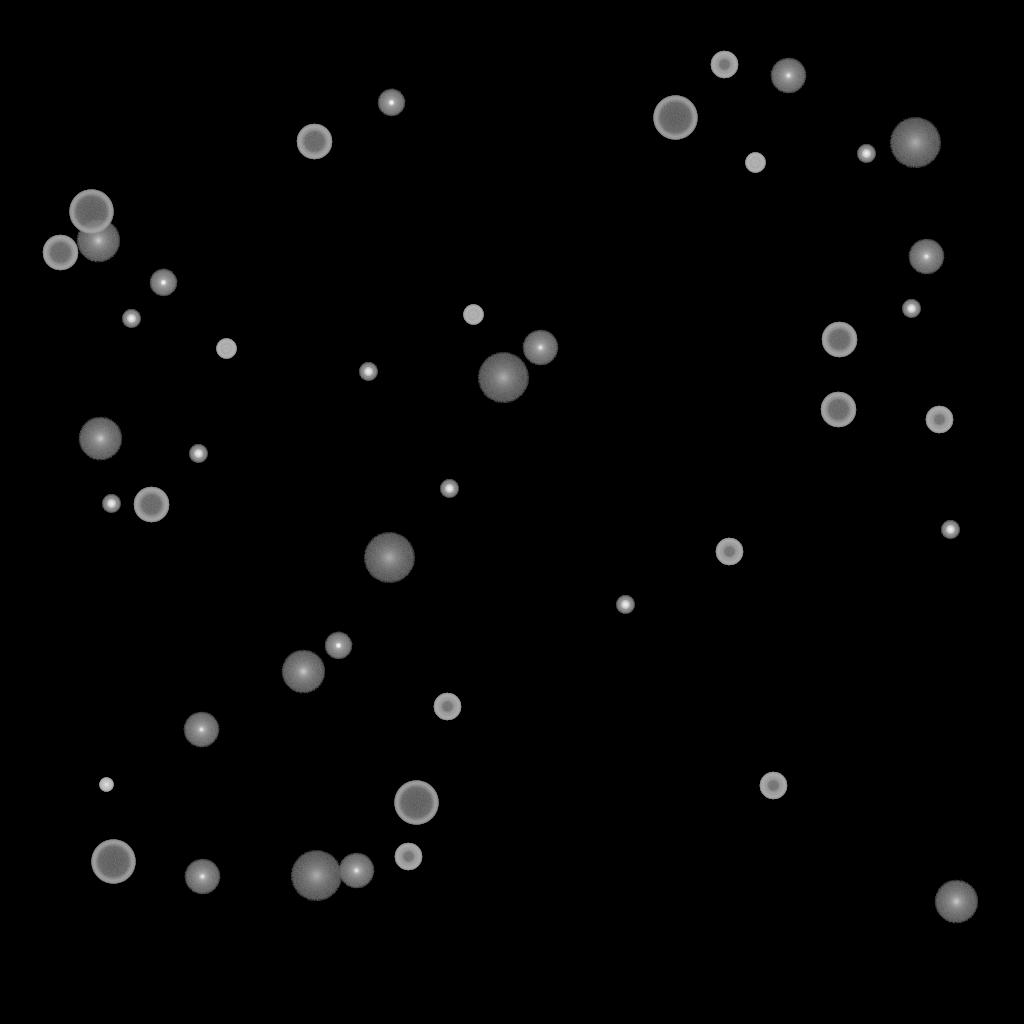depth:-10: (149, 269, 177, 297), (377, 89, 405, 117), (324, 632, 352, 660)
depth:-20: (359, 363, 377, 381), (616, 596, 634, 614), (941, 521, 959, 539), (122, 310, 140, 328), (189, 445, 207, 463), (857, 145, 875, 163), (902, 300, 920, 318), (102, 495, 120, 513), (440, 480, 458, 498)
depth:-30: (99, 778, 113, 792)
depth:-40: (463, 305, 483, 325), (745, 153, 765, 173), (216, 339, 236, 359)
depth:-50: (433, 693, 461, 721), (394, 843, 422, 871), (715, 538, 743, 566), (759, 772, 787, 800), (710, 51, 738, 79), (925, 406, 953, 434)
depth:-60: (296, 124, 332, 160), (42, 235, 78, 271), (133, 487, 169, 523), (821, 322, 857, 358), (820, 392, 856, 428)
depth:-70: (91, 840, 135, 884), (394, 781, 438, 825), (653, 96, 697, 140), (69, 190, 113, 234)
depth:0: (908, 239, 944, 275), (770, 58, 806, 94), (183, 712, 219, 748), (184, 859, 220, 895), (522, 330, 558, 366), (338, 853, 374, 889)
depth:10: (281, 650, 325, 694), (934, 880, 978, 924), (76, 219, 120, 263), (78, 417, 122, 461)
depth:20: (290, 851, 342, 901), (889, 118, 941, 168), (363, 533, 415, 583), (477, 353, 529, 403)
